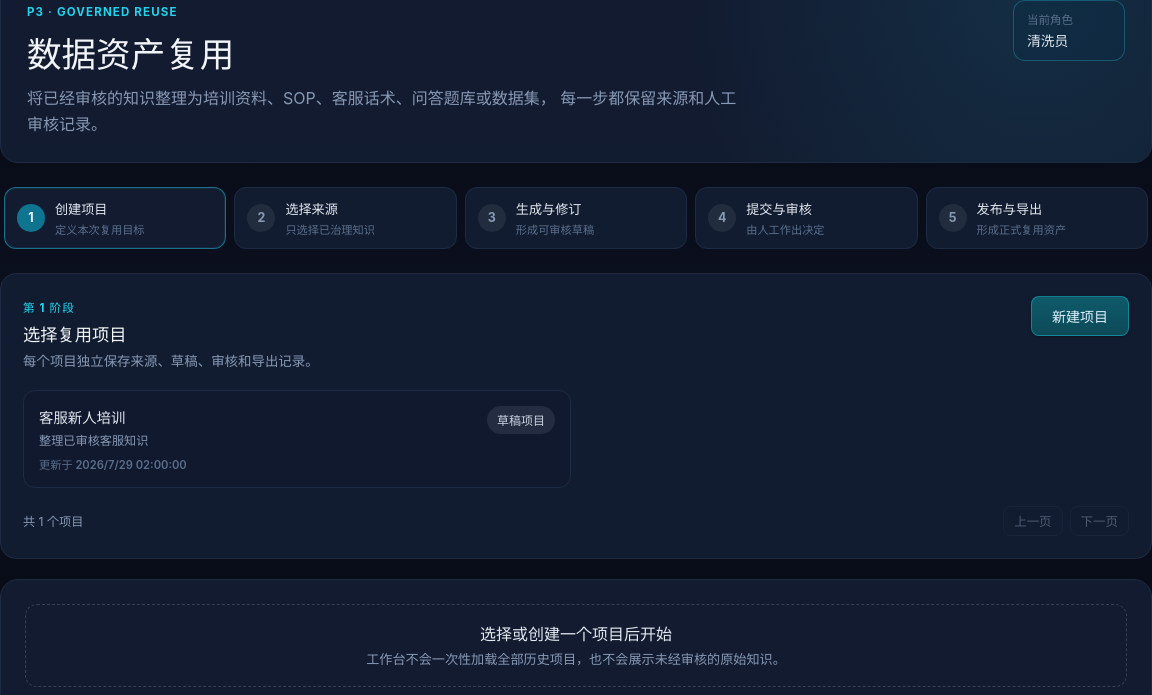
Test: P3 project and governed source workspace › shows ineligible and raw Bad Case reasons as HTTP 200 business outcomes
Click the button "客服新人培训 整理已审核客服知识 草稿项目 更新于 2026/7/29 02:00:00" at x=82, y=417, box [23,390,571,488]
(page scrolled)
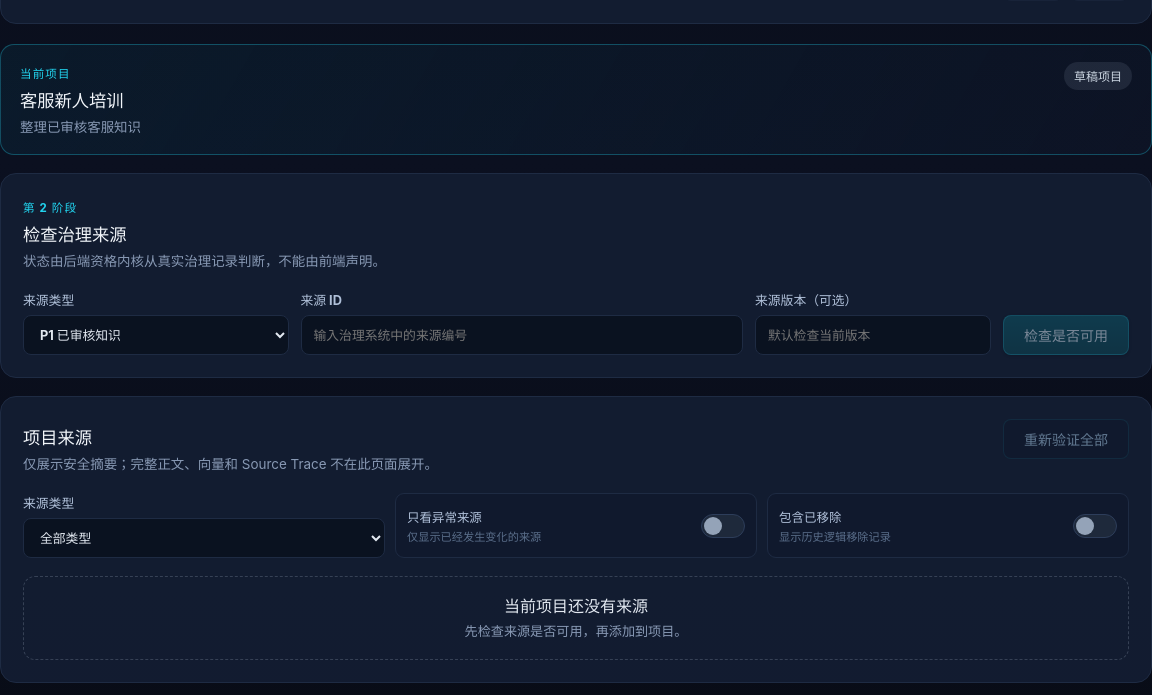
Expected: the heading "检查治理来源" is shown, [23,224,127,245]
Select "原始 Bad Case（仅用于确认不可复用）" in the dropdown labelled "来源类型" below "来源 ID" at x=156, y=335, box [23,315,288,355]
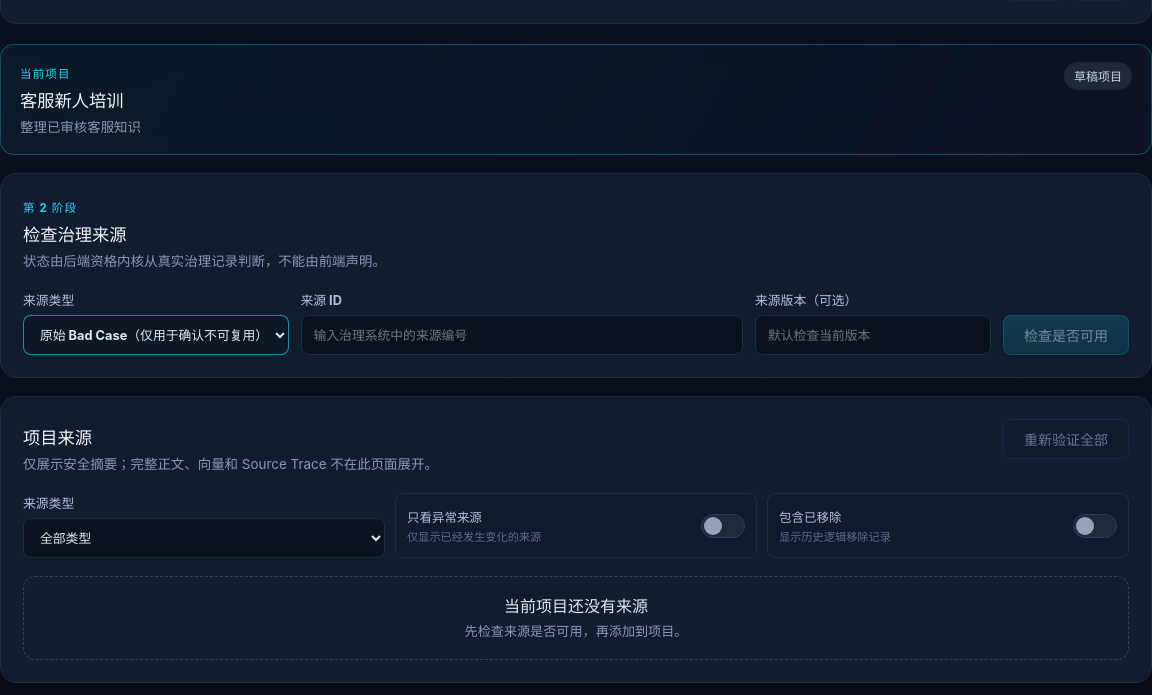
Type "raw_bad_case-1" into the field labelled "来源 ID" at x=522, y=335, box [300,315,743,355]
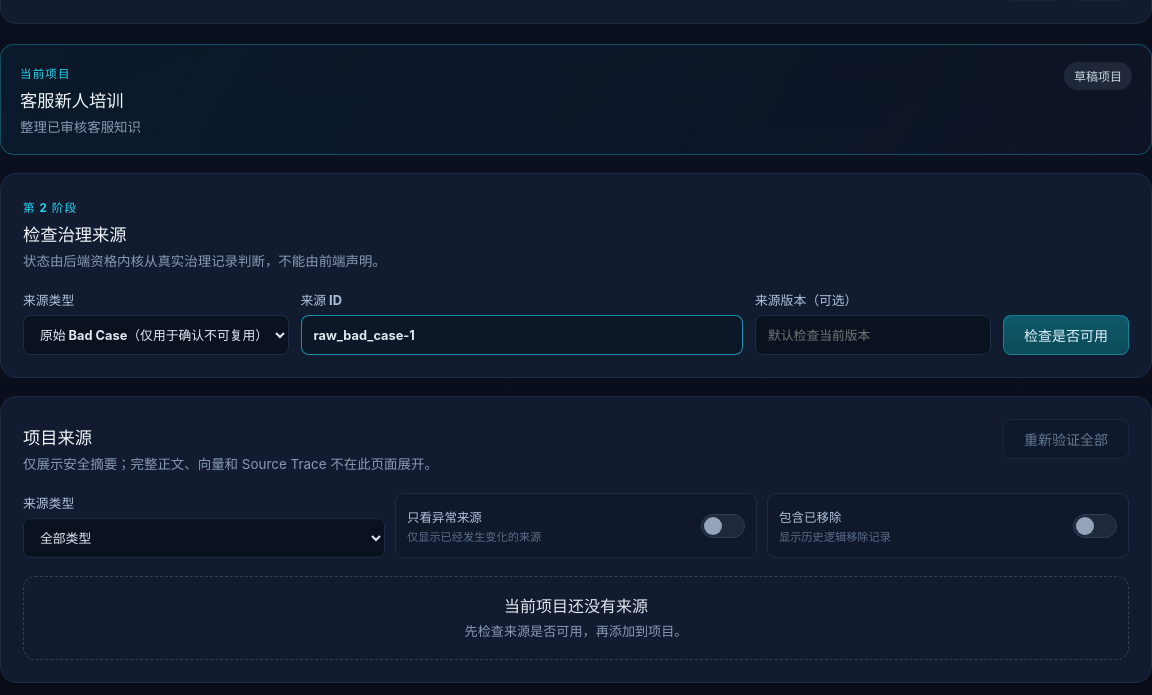
Click the button "检查是否可用" at x=1066, y=335, box [1003,315,1129,355]
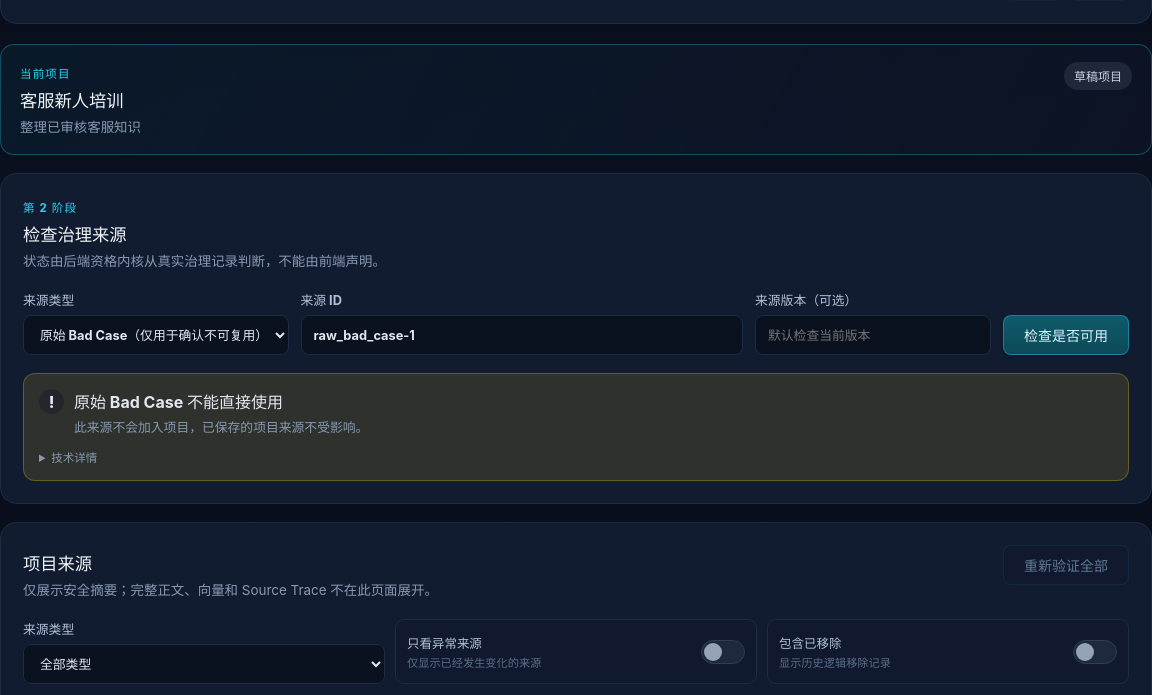
Expected: the button "添加到项目" is not shown
Expected: the text "原始 Bad Case 不能直接使用" is shown, [74,392,283,412]
